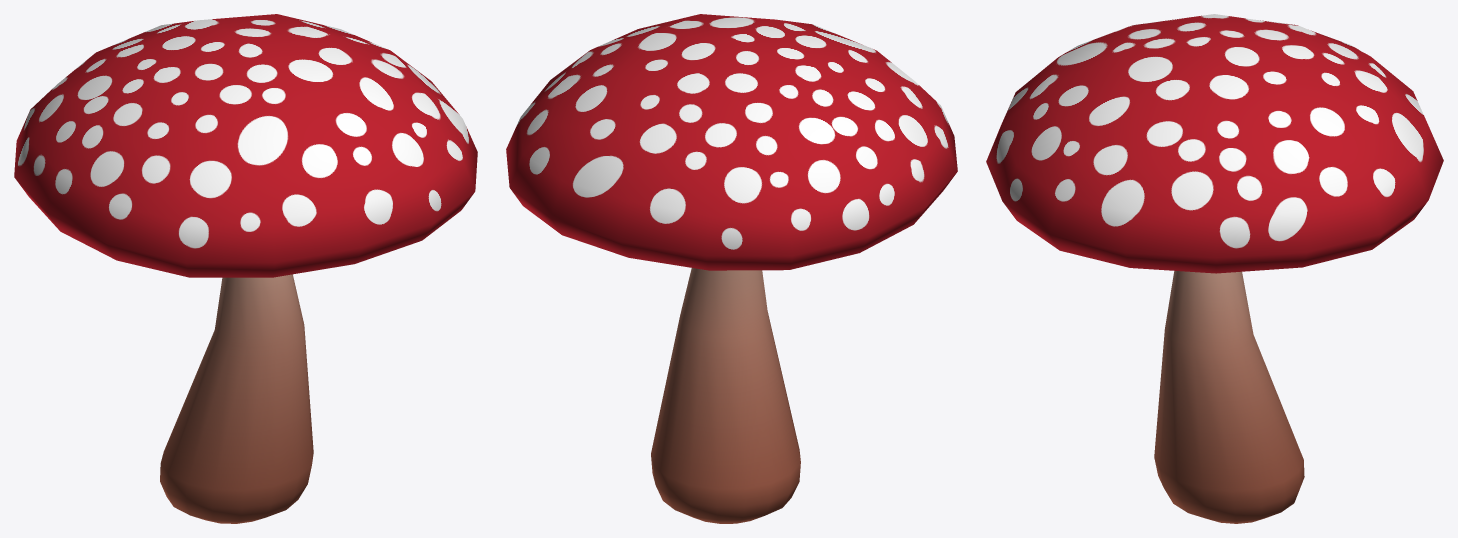
The model's file is Mushrooms_01.fbx.
The picture shows the model from 3 angles, left to right: view 1: azimuth 30°, elevation 25°; view 2: azimuth 150°, elevation 25°; view 3: azimuth 270°, elevation 25°; orthographic projection. The views are drawn at different scales.
Visible parts, largest first — view 1: mushroom_hat_01, mushroom_feet_01; view 2: mushroom_hat_01, mushroom_feet_01; view 3: mushroom_hat_01, mushroom_feet_01.
Part boxes in pixels (box(x1,y1,x2,y2)): mushroom_hat_01: box(14, 14, 477, 277); mushroom_feet_01: box(160, 274, 313, 523); mushroom_hat_01: box(506, 14, 957, 270); mushroom_feet_01: box(651, 268, 800, 523); mushroom_hat_01: box(986, 14, 1443, 273); mushroom_feet_01: box(1154, 271, 1304, 523).
Size of the model in its own units: 1.19 by 1.35 by 1.19.
